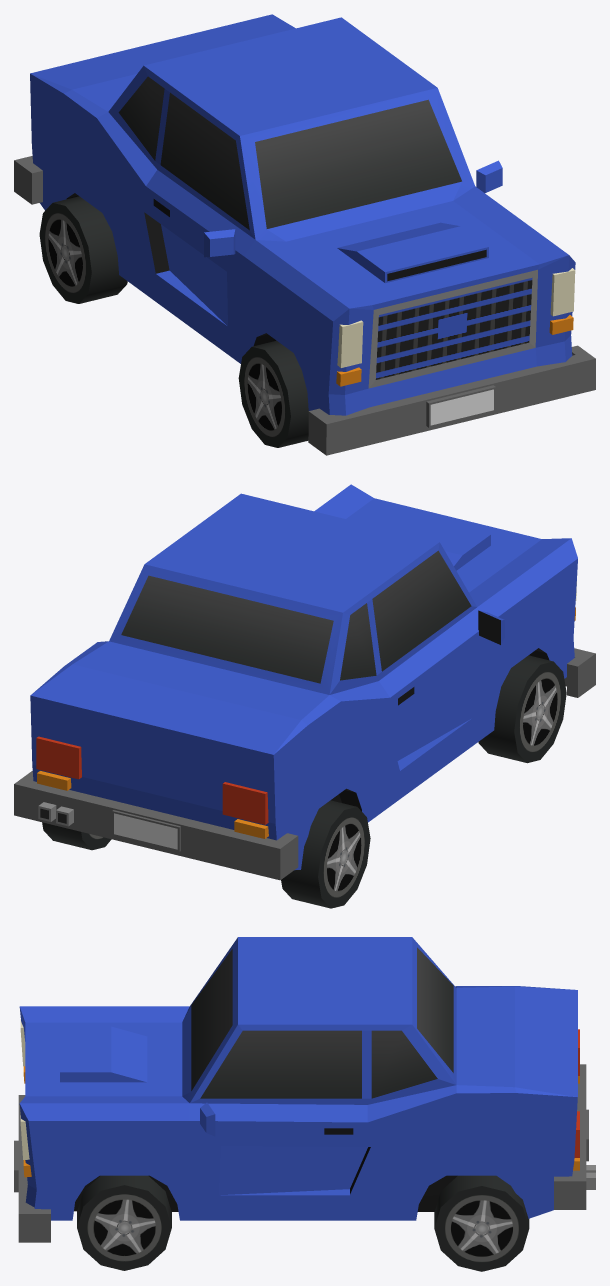
File: CarE.fbx
3 views of the same model, one above another, from view 1: azimuth 30°, elevation 25°; view 2: azimuth 150°, elevation 25°; view 3: azimuth 270°, elevation 25° (orthographic). The views are drawn at different scales.
Visible parts, largest first — view 1: CarE, TireBR, TireFR; view 2: CarE, TireFR, TireBR, TireBL; view 3: CarE, TireFL, TireBL.
Part boxes in pixels (<box>): CarE: <box>14,14,595,455</box>; TireBR: <box>39,196,127,303</box>; TireFR: <box>238,340,308,447</box>; CarE: <box>14,484,595,880</box>; TireFR: <box>478,655,566,763</box>; TireBR: <box>281,800,370,908</box>; TireBL: <box>42,822,111,850</box>; CarE: <box>14,937,595,1242</box>; TireFL: <box>77,1175,171,1270</box>; TireBL: <box>434,1175,529,1271</box>.
Size of the model in its own units: 211 by 174 by 399.
